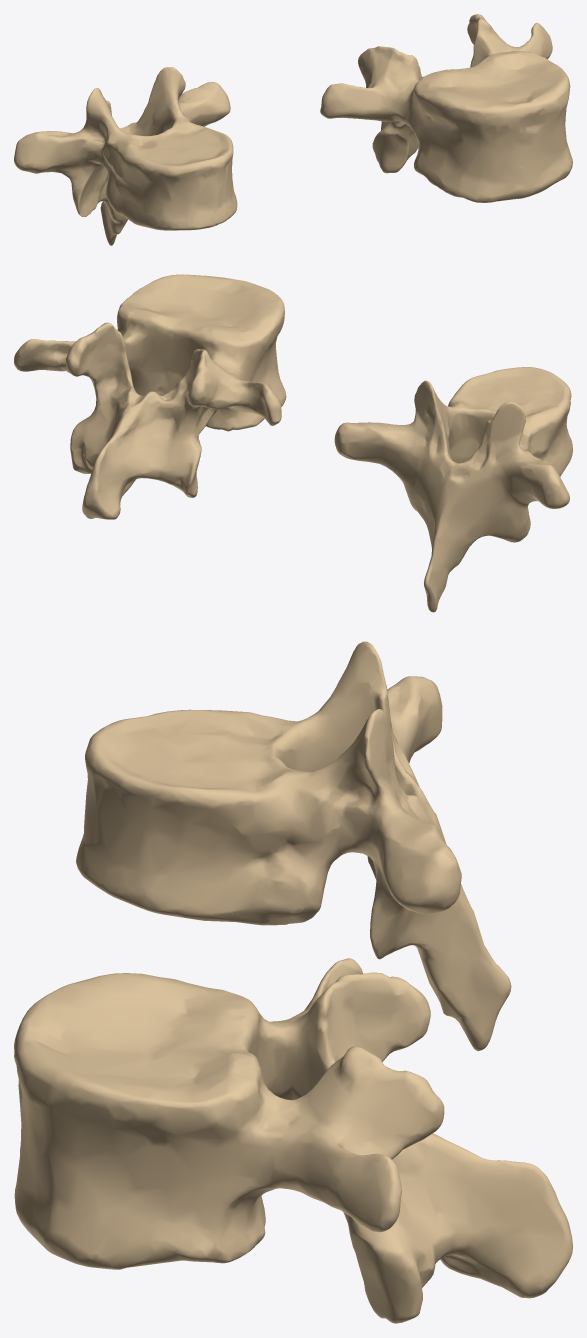
Rendered from explorar-thoracic_lumbar_vertebrae.glb.
The picture shows the model from 3 angles, top to bottom: view 1: azimuth 30°, elevation 25°; view 2: azimuth 150°, elevation 25°; view 3: azimuth 270°, elevation 25°; orthographic projection. The views are drawn at different scales.
Visible parts, largest first — view 1: thoracic_lumbar_vertebrae__cuerpo_l3, thoracic_lumbar_vertebrae__cuerpo_t7, thoracic_lumbar_vertebrae__arco_t7, thoracic_lumbar_vertebrae__arco_l3, thoracic_lumbar_vertebrae__apofisis_transversas_t7, thoracic_lumbar_vertebrae__apofisis_transversas_l3, thoracic_lumbar_vertebrae__carillas_costales_t7, thoracic_lumbar_vertebrae__apofisis_espinosa_t7; view 2: thoracic_lumbar_vertebrae__arco_l3, thoracic_lumbar_vertebrae__cuerpo_l3, thoracic_lumbar_vertebrae__arco_t7, thoracic_lumbar_vertebrae__apofisis_espinosa_l3, thoracic_lumbar_vertebrae__cuerpo_t7, thoracic_lumbar_vertebrae__apofisis_espinosa_t7, thoracic_lumbar_vertebrae__apofisis_transversas_t7, thoracic_lumbar_vertebrae__apofisis_transversas_l3, thoracic_lumbar_vertebrae__carillas_costales_t7; view 3: thoracic_lumbar_vertebrae__cuerpo_l3, thoracic_lumbar_vertebrae__arco_l3, thoracic_lumbar_vertebrae__cuerpo_t7, thoracic_lumbar_vertebrae__arco_t7, thoracic_lumbar_vertebrae__apofisis_espinosa_l3, thoracic_lumbar_vertebrae__carillas_costales_t7, thoracic_lumbar_vertebrae__apofisis_espinosa_t7, thoracic_lumbar_vertebrae__apofisis_transversas_l3, thoracic_lumbar_vertebrae__apofisis_transversas_t7.
Boxes of the visible parts, <box> form: thoracic_lumbar_vertebrae__cuerpo_l3: <box>402,50,572,202</box>; thoracic_lumbar_vertebrae__cuerpo_t7: <box>115,128,237,230</box>; thoracic_lumbar_vertebrae__arco_t7: <box>77,67,200,216</box>; thoracic_lumbar_vertebrae__arco_l3: <box>358,14,527,173</box>; thoracic_lumbar_vertebrae__apofisis_transversas_t7: <box>14,82,222,215</box>; thoracic_lumbar_vertebrae__apofisis_transversas_l3: <box>320,23,552,121</box>; thoracic_lumbar_vertebrae__carillas_costales_t7: <box>14,86,230,220</box>; thoracic_lumbar_vertebrae__apofisis_espinosa_t7: <box>100,167,127,245</box>; thoracic_lumbar_vertebrae__arco_l3: <box>64,316,244,497</box>; thoracic_lumbar_vertebrae__cuerpo_l3: <box>117,274,286,431</box>; thoracic_lumbar_vertebrae__arco_t7: <box>369,380,543,542</box>; thoracic_lumbar_vertebrae__apofisis_espinosa_l3: <box>82,400,181,519</box>; thoracic_lumbar_vertebrae__cuerpo_t7: <box>452,367,572,476</box>; thoracic_lumbar_vertebrae__apofisis_espinosa_t7: <box>412,470,489,612</box>; thoracic_lumbar_vertebrae__apofisis_transversas_t7: <box>336,422,569,538</box>; thoracic_lumbar_vertebrae__apofisis_transversas_l3: <box>14,339,281,425</box>; thoracic_lumbar_vertebrae__carillas_costales_t7: <box>334,396,568,498</box>; thoracic_lumbar_vertebrae__cuerpo_l3: <box>14,973,260,1269</box>; thoracic_lumbar_vertebrae__arco_l3: <box>249,972,444,1323</box>; thoracic_lumbar_vertebrae__cuerpo_t7: <box>76,709,274,922</box>; thoracic_lumbar_vertebrae__arco_t7: <box>259,641,441,959</box>; thoracic_lumbar_vertebrae__apofisis_espinosa_l3: <box>395,1133,572,1298</box>; thoracic_lumbar_vertebrae__carillas_costales_t7: <box>228,676,458,925</box>; thoracic_lumbar_vertebrae__apofisis_espinosa_t7: <box>391,827,511,1051</box>; thoracic_lumbar_vertebrae__apofisis_transversas_l3: <box>296,958,401,1232</box>; thoracic_lumbar_vertebrae__apofisis_transversas_t7: <box>367,682,461,913</box>.
Size of the model in its own units: 0.1758 by 0.0605 by 0.0828.
